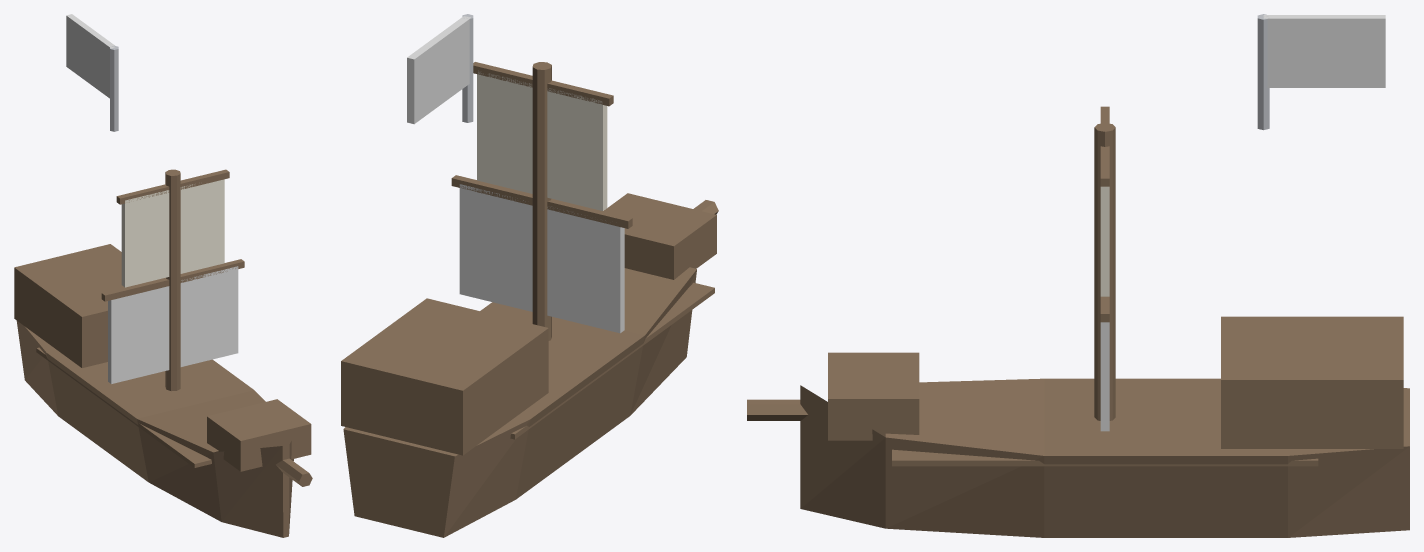
The model's file is Great Admiral.glb.
The picture shows the model from 3 angles, left to right: view 1: azimuth 30°, elevation 25°; view 2: azimuth 150°, elevation 25°; view 3: azimuth 270°, elevation 25°; orthographic projection. The views are drawn at different scales.
Parts seen in each view (by area): view 1: Body; view 2: Body; view 3: Body.
Part boxes in pixels (box(x1,y1,x2,y2)): Body: box(14, 14, 312, 537); Body: box(341, 14, 718, 537); Body: box(747, 14, 1409, 537).
Bounding box in the file's own units: 0.2851 × 0.71 × 0.87.
